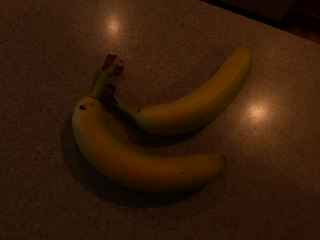banana: (68, 49, 230, 200), (97, 35, 258, 144)
